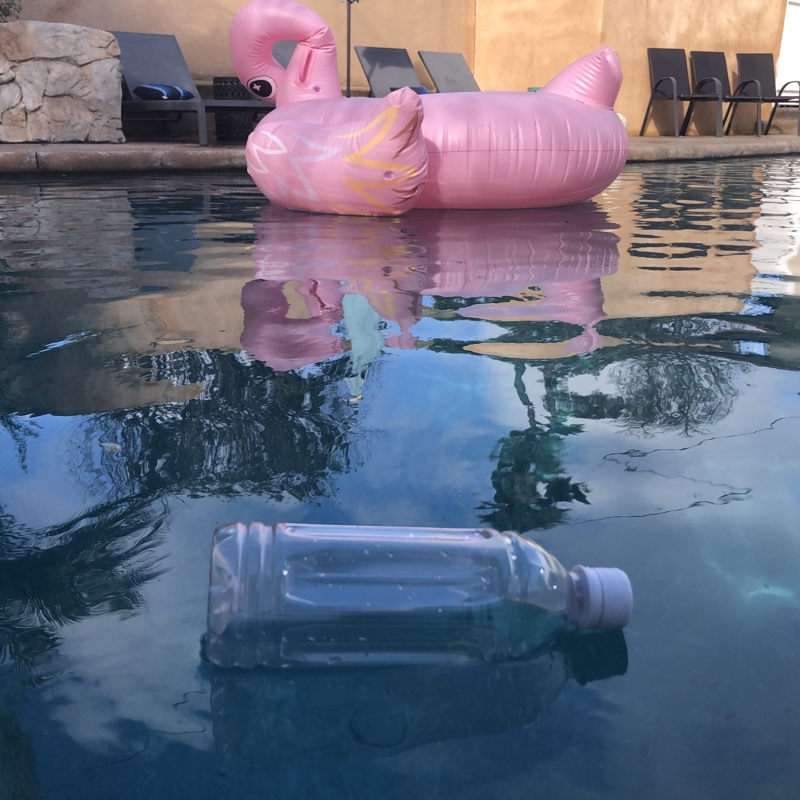Plastic Bottle: (200, 513, 638, 683)
